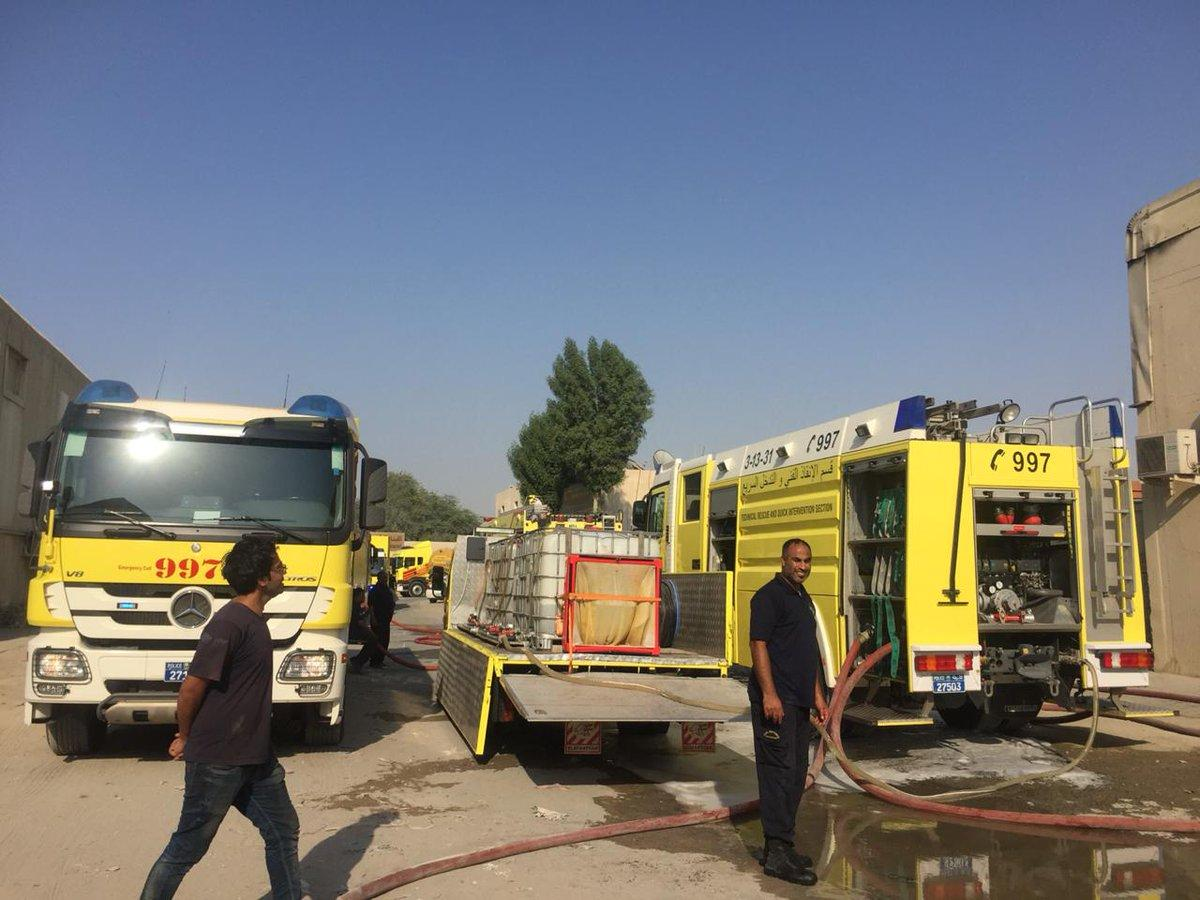firetruck_off: (652, 380, 1156, 713), (30, 378, 380, 751)
